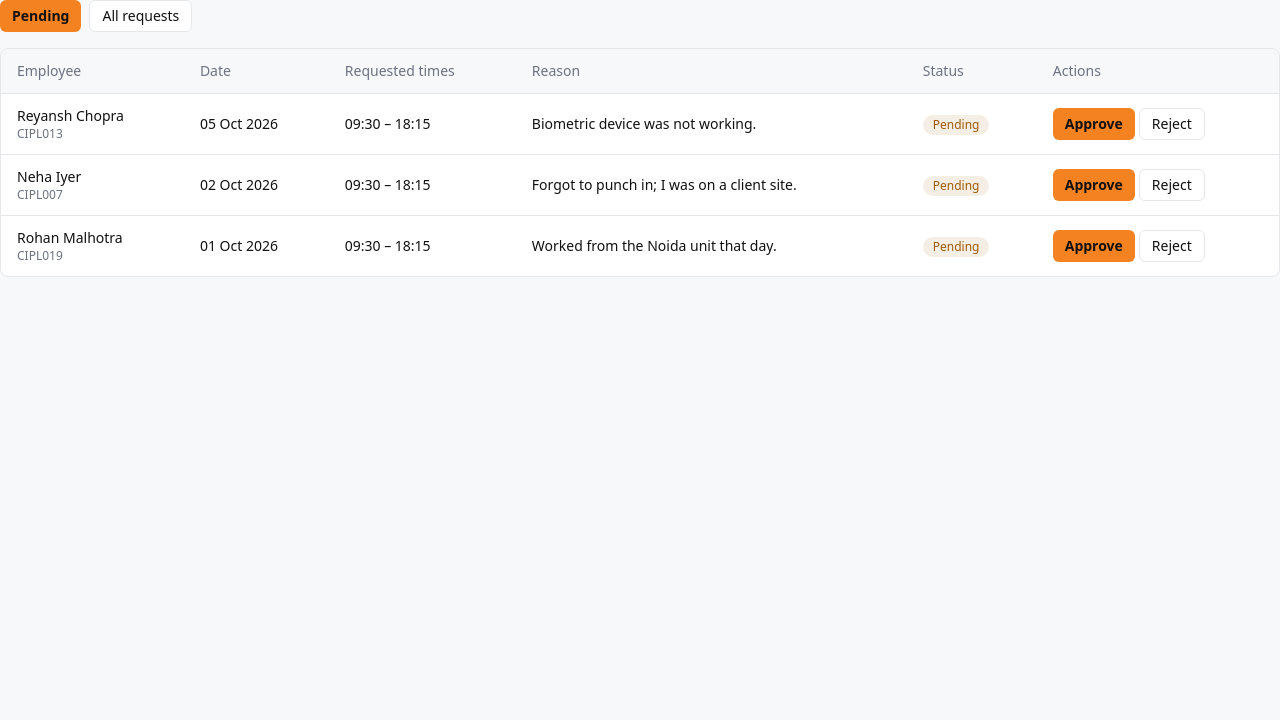
Test: Attendance regularization › requires a reason to reject
Click the button with aria-label "Reject request from".
click(1172, 124)  # box [1139, 108, 1205, 140]
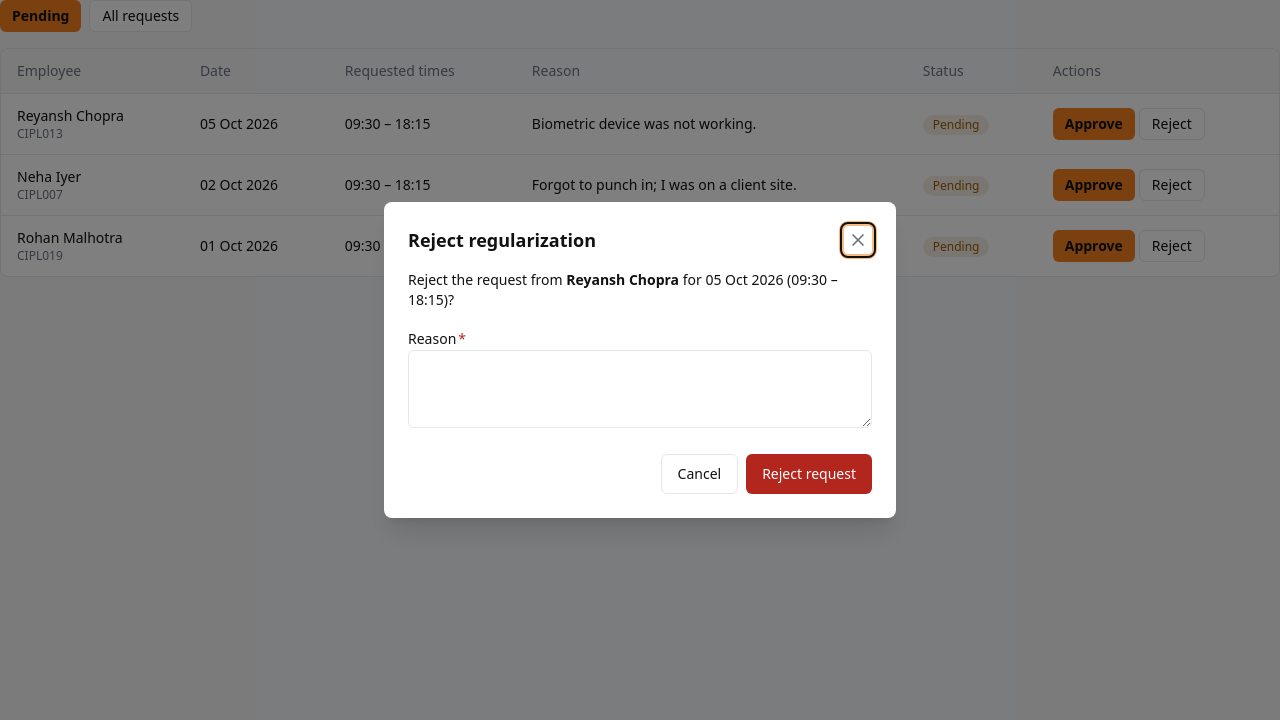
Click the button "Reject request".
click(809, 474)  # box [746, 454, 872, 494]
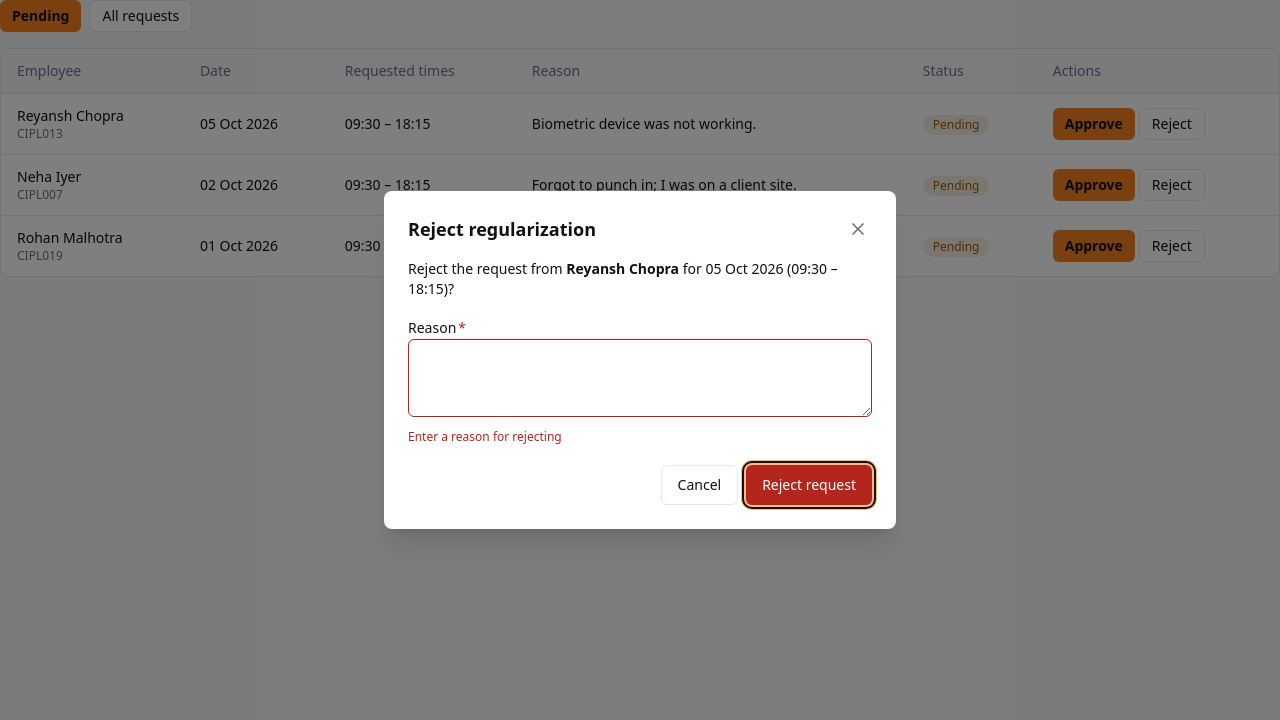
Now the text "Enter a reason for rejecting" is shown, box [408, 428, 562, 445]
